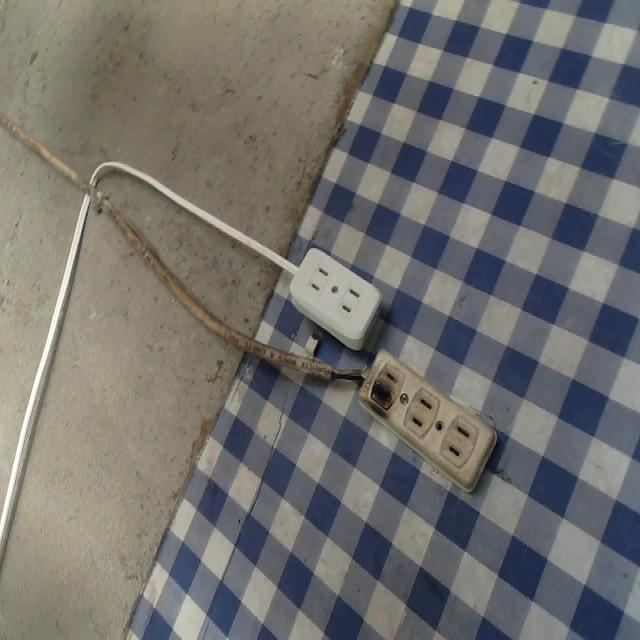-: (366, 367, 399, 424)
